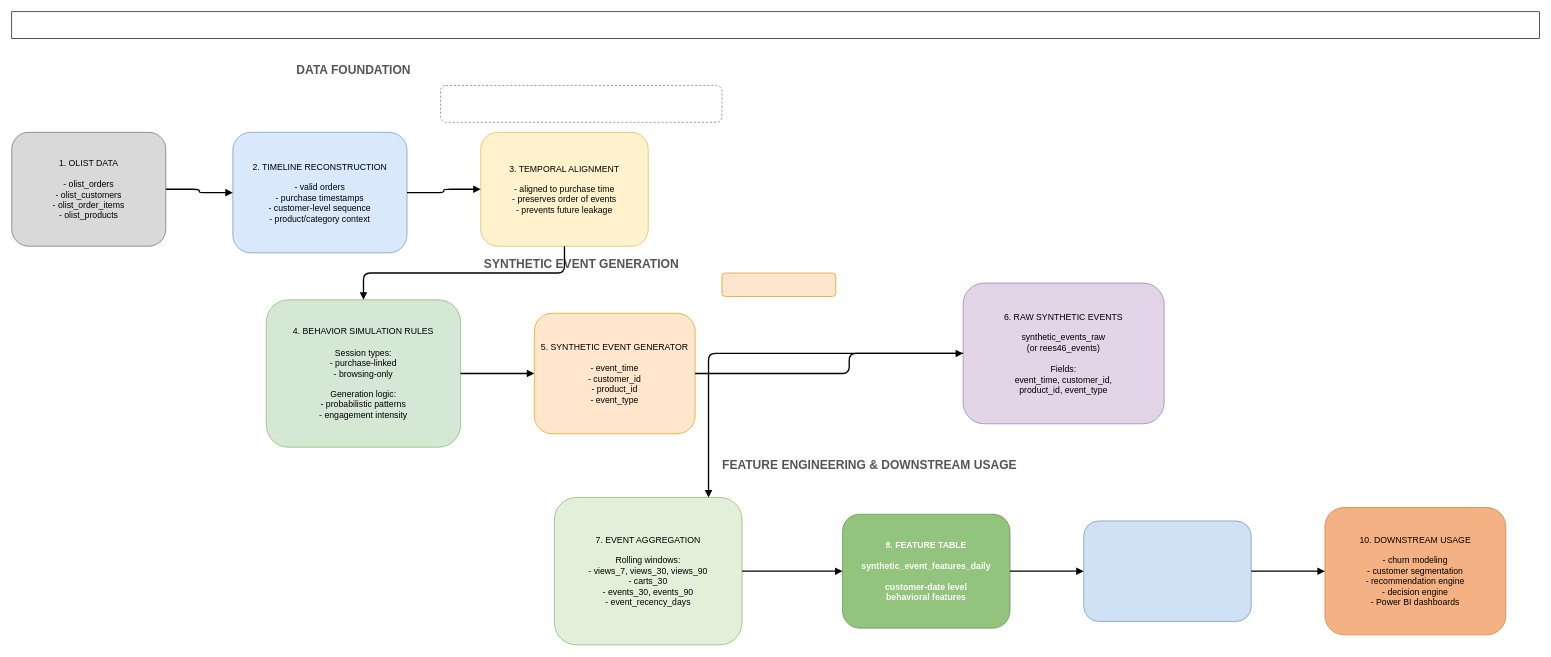
This 1551x657 diagram has some shape labels left out. Here are the shapes that lost their labels. From the top down, the centre of each, then its label:
At point (775, 25): "Synthetic Behavioral Event Generation Architecture".
At point (581, 103): "No real clickstream available → synthetic behavioral layer introduced".
At point (778, 284): "Core Contribution".
At point (1167, 570): "9. JOIN WITH TRANSACTIONAL FEATURES customer_features_daily".
